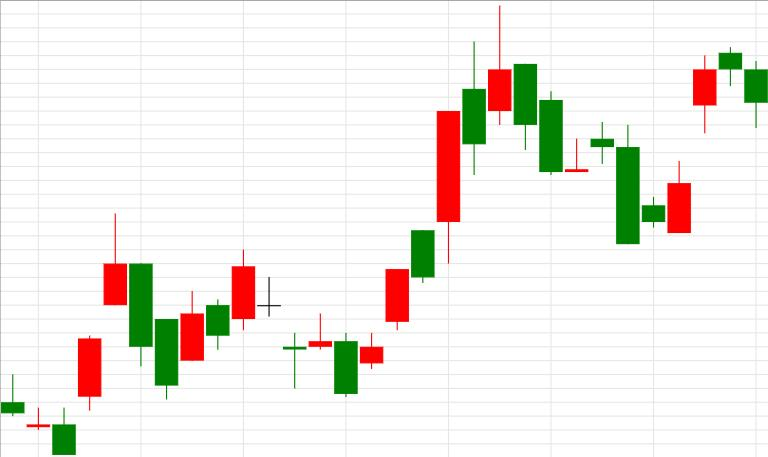evening_star_fall: (616, 46, 768, 244)
shooting_star_fall: (359, 4, 512, 370)
